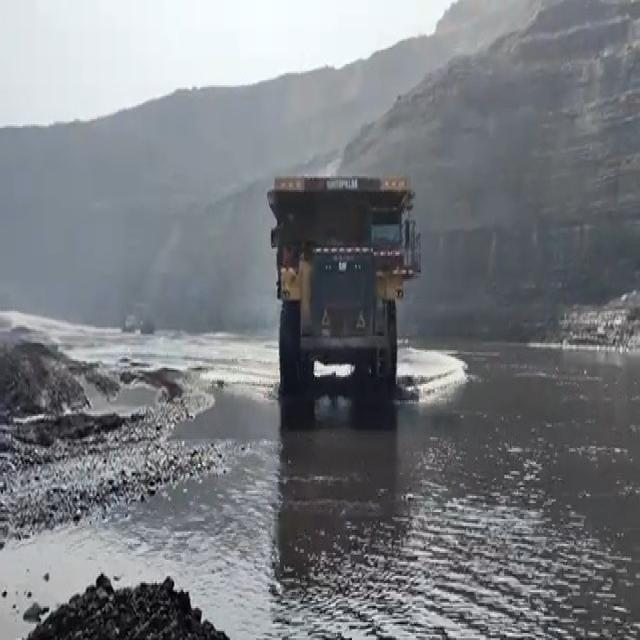dump_truck: (267, 170, 415, 408)
